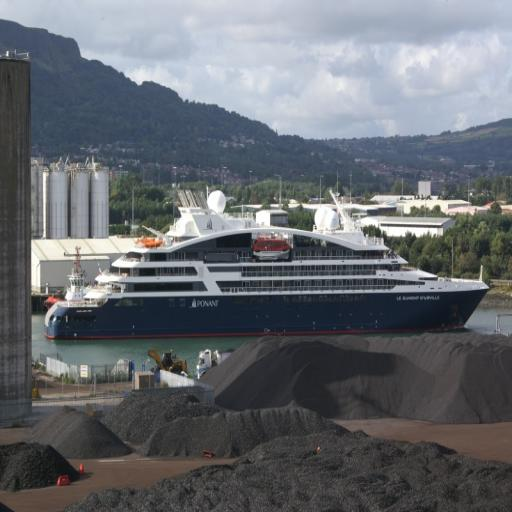cruises: (42, 188, 494, 345)
